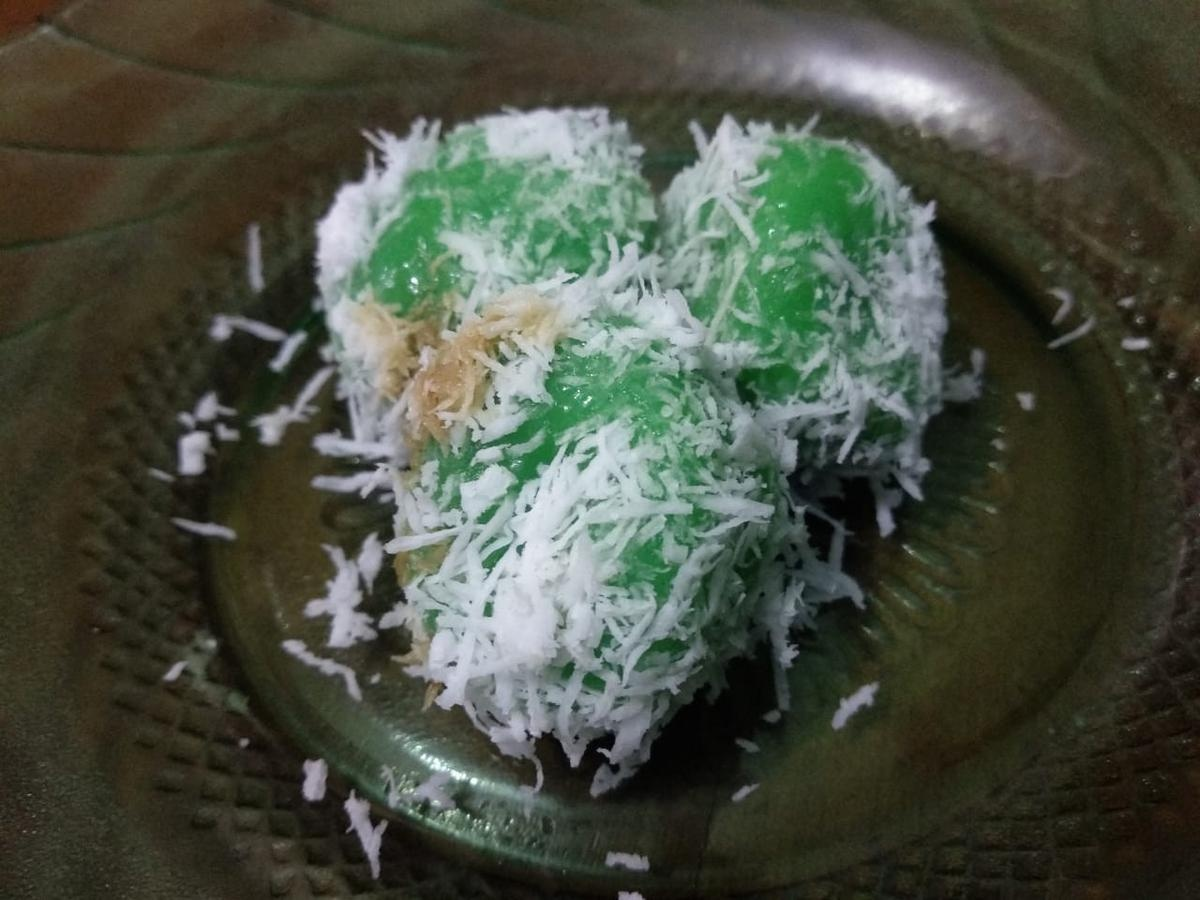klepon: (325, 285, 796, 765)
